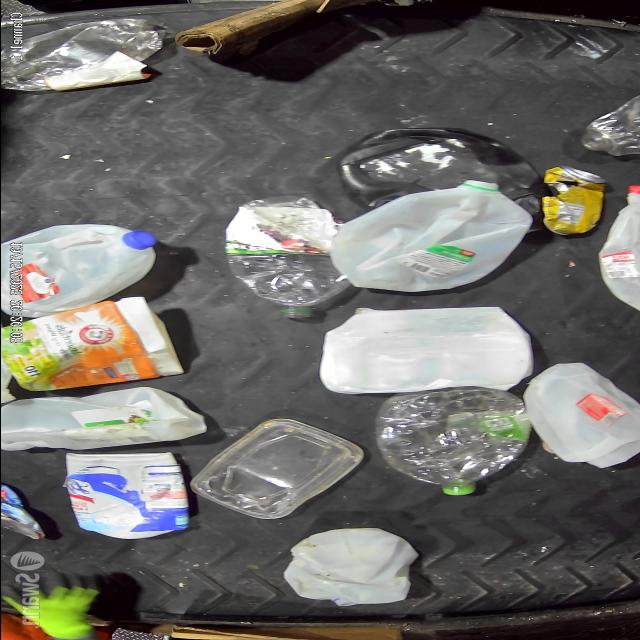can: (529, 165, 609, 237)
milk_jug: (329, 179, 532, 293), (311, 304, 531, 396), (2, 377, 208, 463), (0, 222, 162, 320), (522, 365, 640, 470), (280, 528, 430, 606), (594, 185, 640, 308)
non_white_jug: (330, 122, 530, 214)
plastic_bottle: (374, 386, 532, 498), (221, 199, 361, 311)
